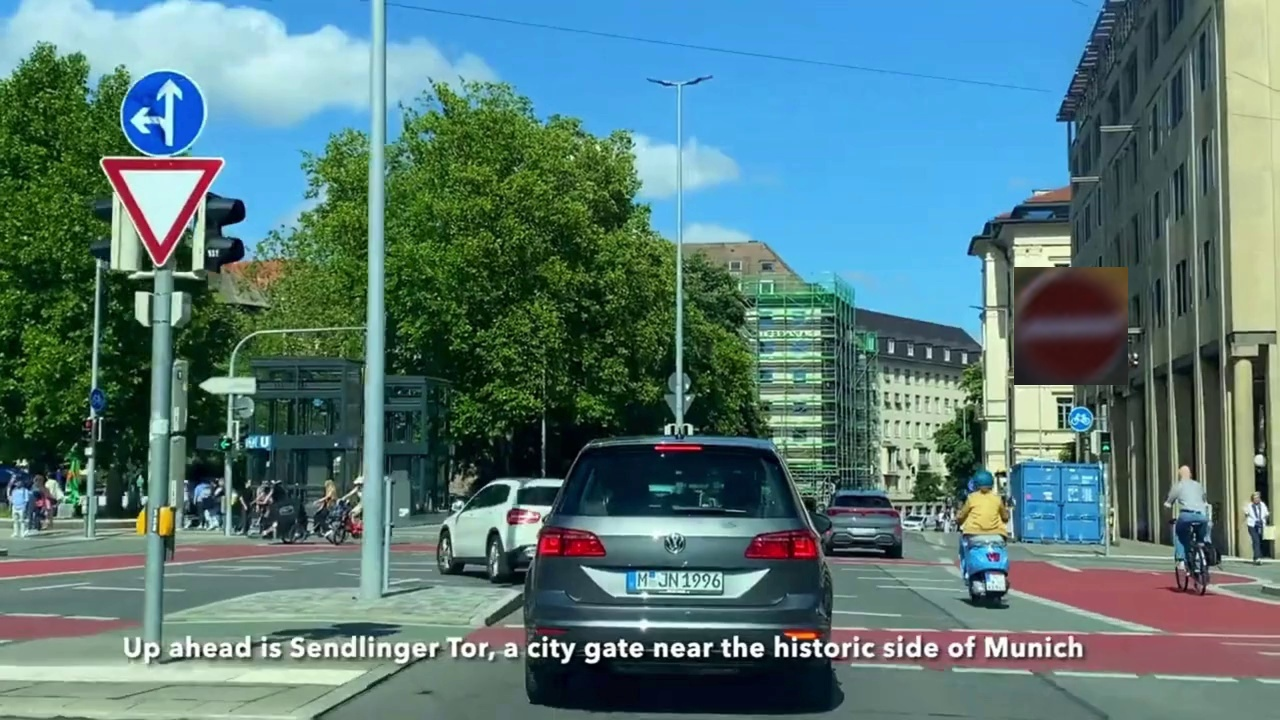No entry: (1014, 267, 1128, 385)
